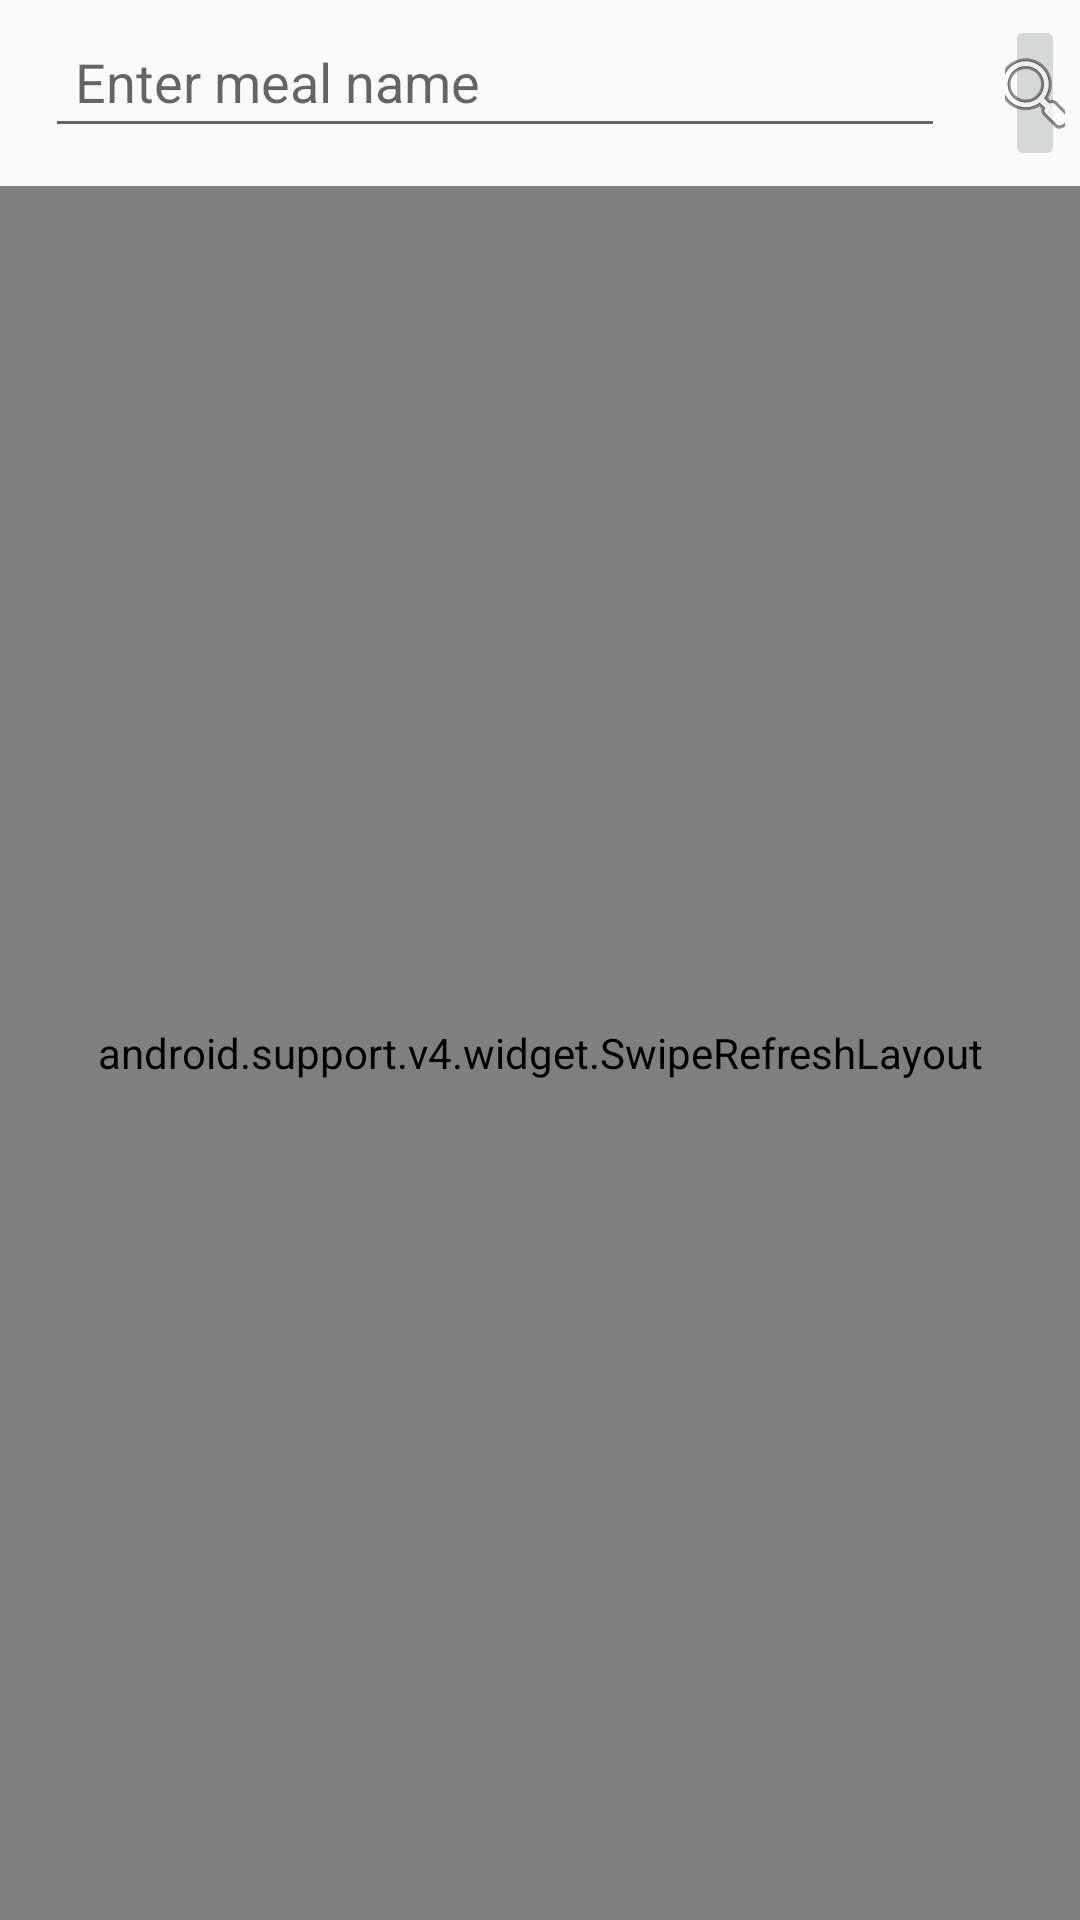

Screen size 1080px x 1920px. Icon name, then its box in pixels as [x1=x1, y1=y1, x2=x2, y2=y2]:
search: [x1=1005, y1=33, x2=1065, y2=153]
